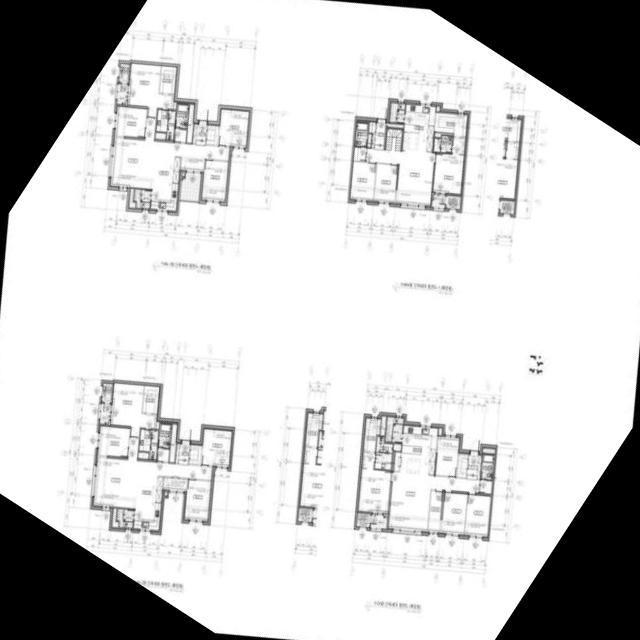background: (0, 0, 640, 640)
space_balconi: (179, 173, 200, 200), (385, 416, 403, 442), (133, 188, 151, 208), (116, 508, 133, 527), (388, 102, 404, 122), (370, 514, 387, 528), (116, 83, 127, 104), (99, 402, 109, 423), (431, 194, 445, 207)
space_bedroom: (127, 62, 173, 117), (110, 382, 156, 436), (357, 451, 391, 512), (432, 136, 465, 193), (201, 427, 232, 466), (218, 108, 249, 146), (440, 492, 467, 534), (184, 479, 211, 520), (201, 159, 228, 200), (464, 494, 490, 536), (114, 105, 146, 137), (350, 161, 376, 200), (97, 425, 129, 456), (435, 435, 459, 476), (373, 163, 397, 202)
space_dressroom: (434, 112, 467, 137), (362, 417, 380, 451), (142, 385, 159, 413), (159, 65, 176, 93)
space_front: (371, 122, 385, 149), (466, 454, 481, 479), (175, 441, 190, 464), (192, 123, 207, 144)
space_kitchen: (399, 424, 437, 474), (150, 154, 180, 210), (133, 474, 163, 529), (402, 103, 435, 152)
space_living_room: (110, 117, 230, 188), (93, 437, 212, 508), (388, 471, 479, 530), (366, 148, 434, 205)
space_other: (427, 490, 442, 532), (385, 127, 402, 150), (180, 156, 204, 171), (163, 476, 187, 490), (169, 423, 177, 461), (186, 104, 194, 142), (456, 453, 467, 477), (189, 443, 201, 463), (206, 124, 218, 144), (479, 479, 492, 493), (353, 146, 366, 160), (173, 128, 186, 141), (156, 448, 169, 461), (128, 188, 135, 208), (393, 451, 400, 470), (111, 507, 118, 526), (380, 414, 386, 434), (368, 120, 375, 132), (387, 122, 403, 127), (434, 132, 452, 136), (482, 447, 495, 452), (393, 443, 401, 450), (367, 133, 371, 146), (438, 426, 442, 434), (156, 420, 159, 428), (173, 101, 176, 109), (164, 491, 167, 495), (436, 106, 439, 110), (181, 172, 184, 175)
space_outdoor_room: (445, 194, 460, 209), (356, 512, 370, 527), (101, 382, 112, 401), (118, 63, 129, 82)
space_toilet: (138, 428, 158, 459), (374, 435, 392, 469), (155, 109, 175, 139), (480, 453, 494, 479), (158, 422, 171, 447), (355, 121, 368, 146), (433, 135, 452, 152), (175, 103, 188, 127)
